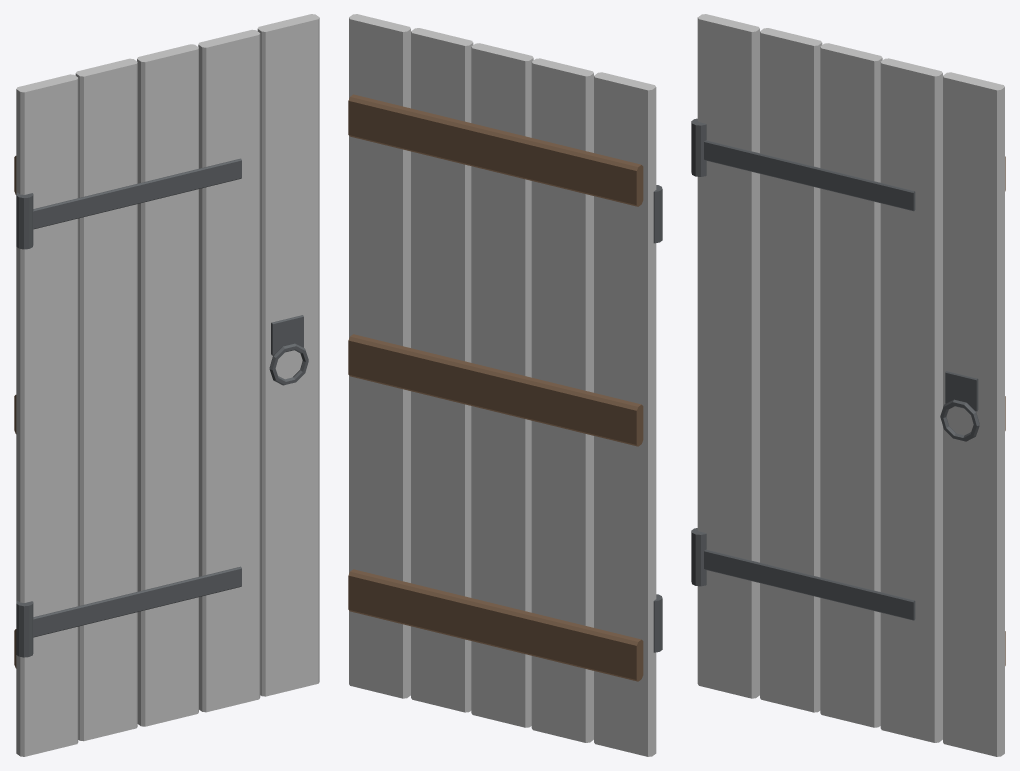
File: door_leaf.glb
3 renders of one model, left to right at view 1: azimuth 30°, elevation 25°; view 2: azimuth 150°, elevation 25°; view 3: azimuth 330°, elevation 25°, orthographic.
Parts seen in each view (by area): view 1: door_leaf; view 2: door_leaf; view 3: door_leaf.
Part boxes in pixels (x1,y1,x2,y2): door_leaf: (14, 14, 319, 756); door_leaf: (348, 14, 662, 756); door_leaf: (691, 14, 1005, 756).
Bounding box in the file's own units: 1.37 × 2.85 × 0.141.
